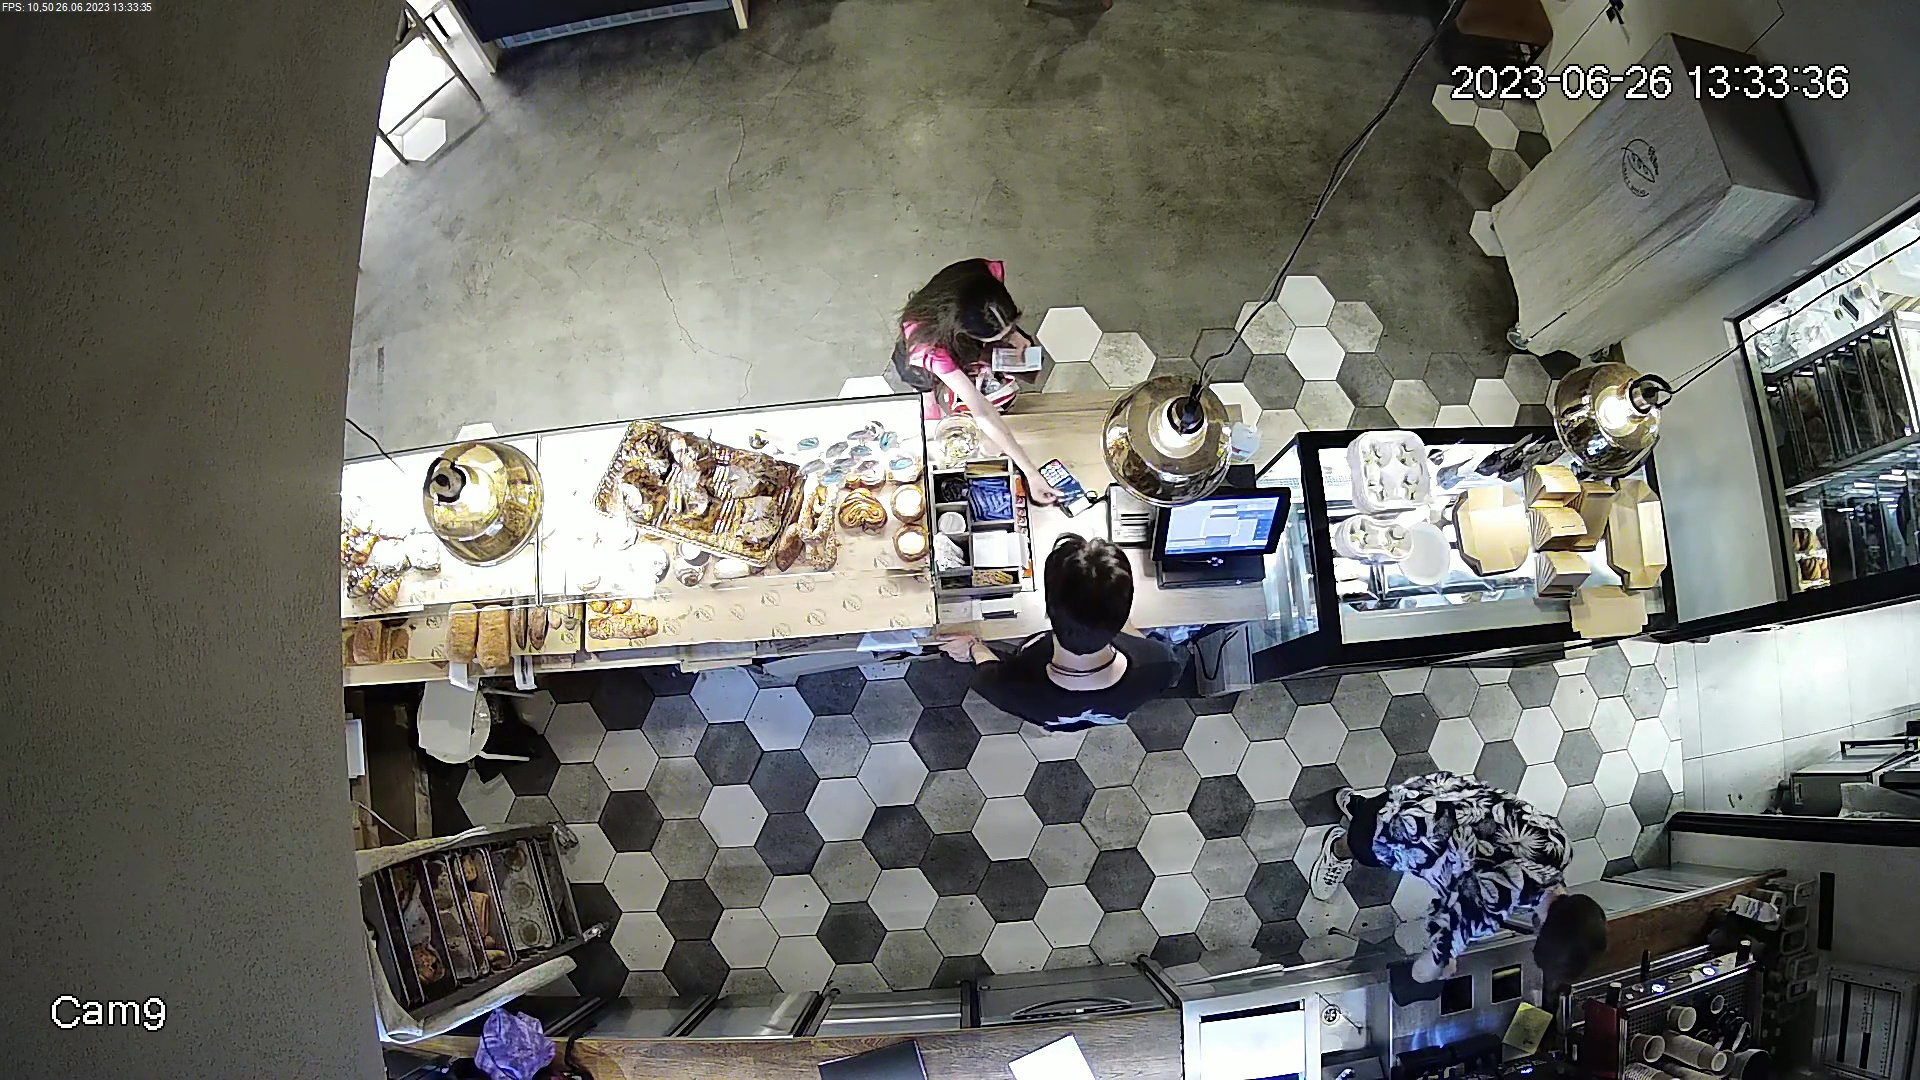terminal: (1025, 454, 1096, 514)
